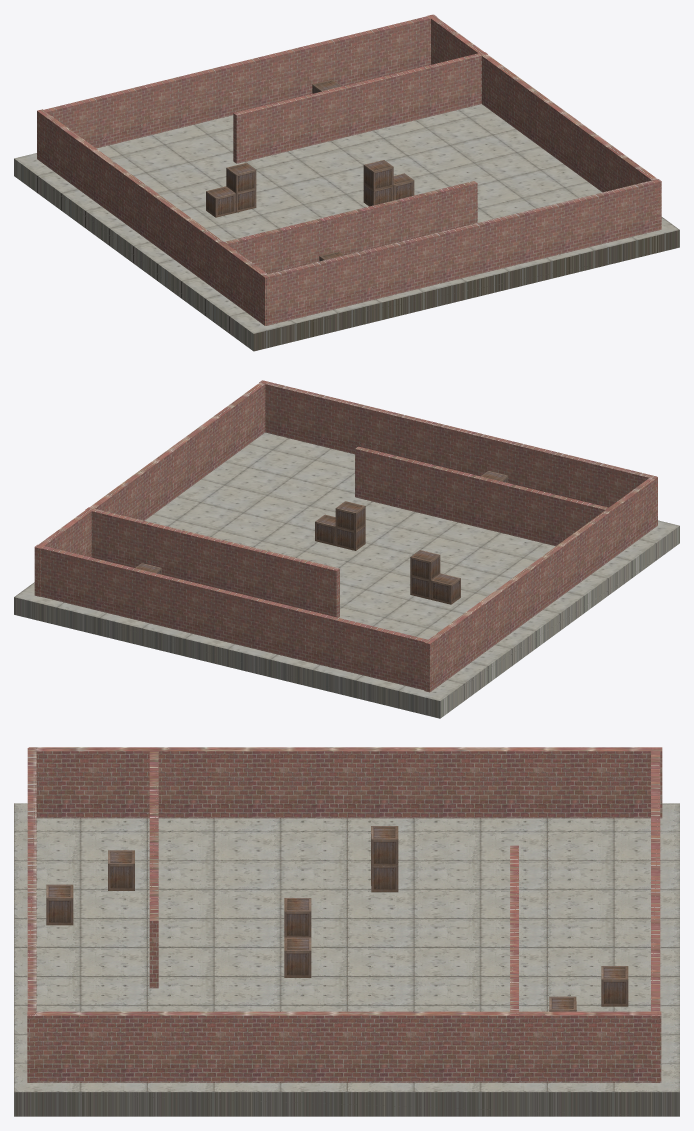
The model's file is level.DAE.
3 renders of one model, top to bottom at view 1: azimuth 30°, elevation 25°; view 2: azimuth 150°, elevation 25°; view 3: azimuth 270°, elevation 25°, orthographic. The views are drawn at different scales.
Visible parts, largest first — view 1: Box01, Box03, Box05, Box06, Box02, Box07, Box04, Box10, Box13, Box12; view 2: Box01, Box05, Box03, Box02, Box06, Box07, Box04, Box10, Box13, Box12, Box09, Box08; view 3: Box01, Box02, Box04, Box03, Box05, Box07, Box06, Box17, Box14, Box08, Box12, Box10 (+2 smaller).
Part boxes in pixels (box(x1,y1,x2,y2)): Box01: box(14, 104, 679, 351); Box03: box(264, 179, 661, 325); Box05: box(39, 15, 436, 148); Box06: box(233, 52, 487, 163); Box02: box(37, 109, 268, 325); Box07: box(224, 181, 477, 273); Box04: box(427, 14, 660, 230); Box10: box(363, 160, 393, 191); Box13: box(206, 186, 235, 217); Box12: box(226, 163, 256, 193); Box01: box(14, 432, 679, 718); Box05: box(35, 544, 432, 689); Box03: box(259, 380, 656, 507); Box02: box(424, 477, 657, 692); Box06: box(85, 507, 339, 617); Box07: box(355, 446, 609, 546); Box04: box(34, 380, 267, 596); Box10: box(335, 501, 365, 532); Box13: box(431, 573, 460, 604); Box12: box(410, 550, 440, 581); Box09: box(335, 526, 365, 550); Box08: box(315, 514, 335, 545); Box01: box(14, 803, 679, 1116); Box02: box(28, 747, 662, 818); Box04: box(27, 1011, 661, 1082); Box03: box(27, 748, 36, 1082); Box05: box(651, 748, 660, 1082); Box07: box(149, 750, 158, 988); Box06: box(510, 845, 518, 1082); Box17: box(46, 884, 73, 925); Box14: box(601, 966, 628, 1006); Box08: box(284, 937, 311, 977); Box12: box(371, 826, 398, 866); Box10: box(284, 898, 311, 937).
Size of the model in its own units: 117 by 114 by 17.33.
Materials: 17 (17 with a texture image).
